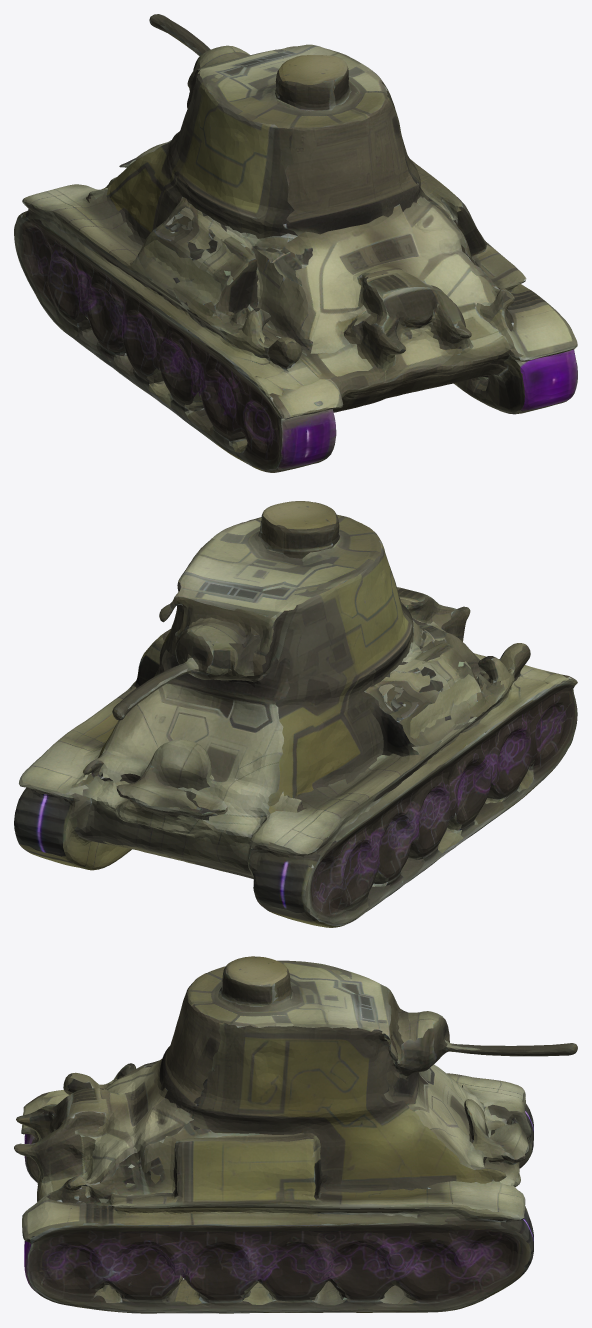
Rendered from textured_paint3d.glb.
The picture shows the model from 3 angles, top to bottom: view 1: azimuth 30°, elevation 25°; view 2: azimuth 150°, elevation 25°; view 3: azimuth 270°, elevation 25°; orthographic projection. The views are drawn at different scales.
Visible parts, largest first — view 1: Node-Mesh; view 2: Node-Mesh; view 3: Node-Mesh.
Boxes of the visible parts, x1=… form: Node-Mesh: x1=14, y1=14, x2=577, y2=472; Node-Mesh: x1=14, y1=501, x2=577, y2=927; Node-Mesh: x1=14, y1=956, x2=577, y2=1313.
Bounding box in the file's own units: 1.15 × 1.11 × 2.
1 material, 1 textured.
